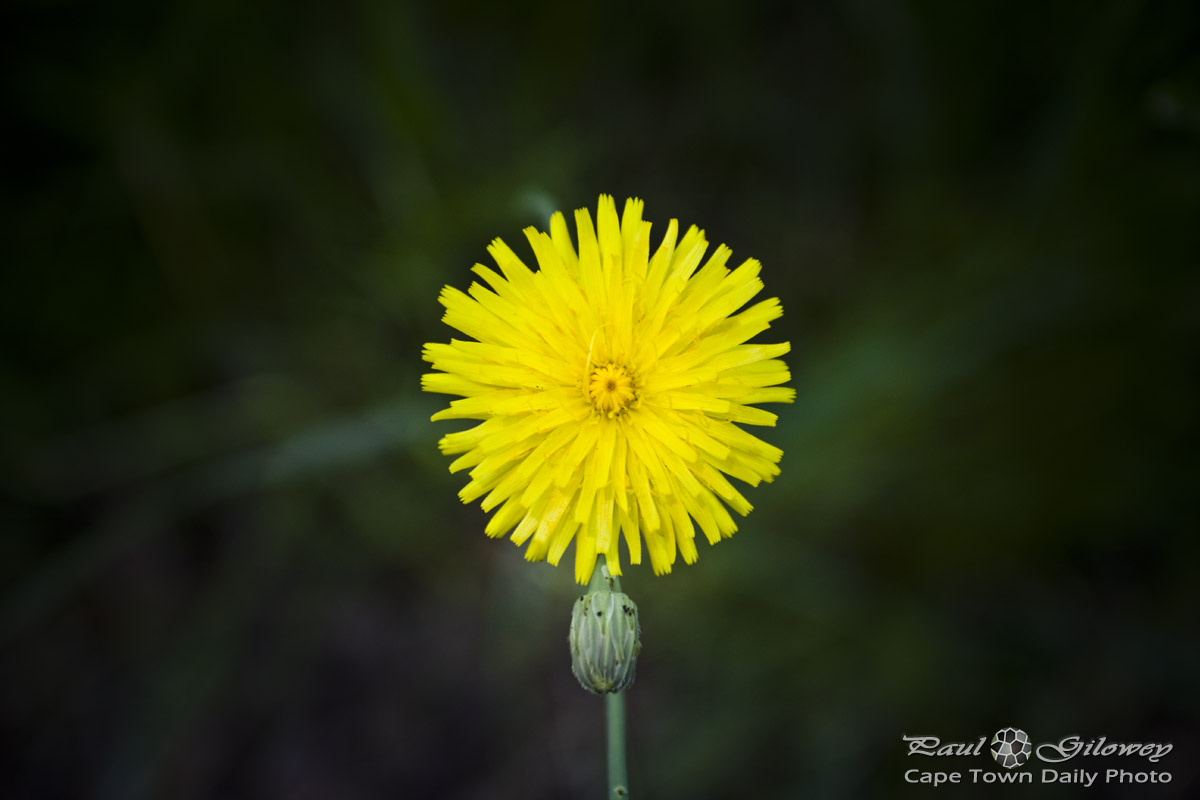dandelion: (430, 221, 781, 533)
